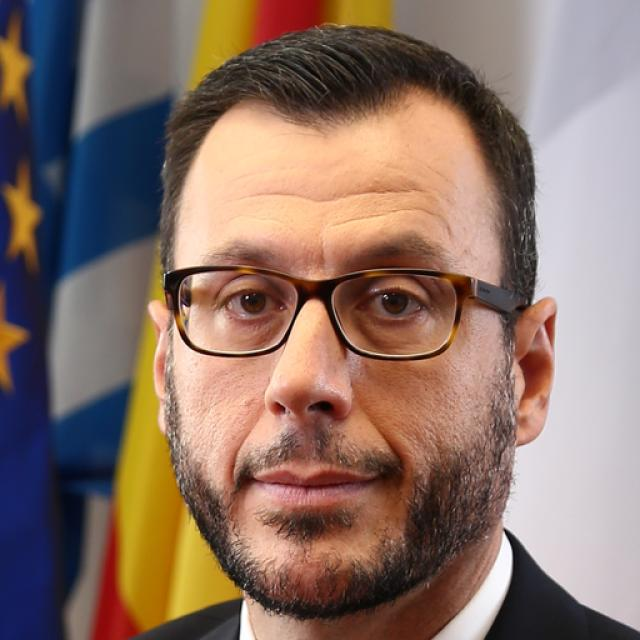Acne: (232, 395, 260, 413)
Wrinkle: (242, 181, 434, 206), (359, 394, 410, 484), (327, 203, 452, 237)
